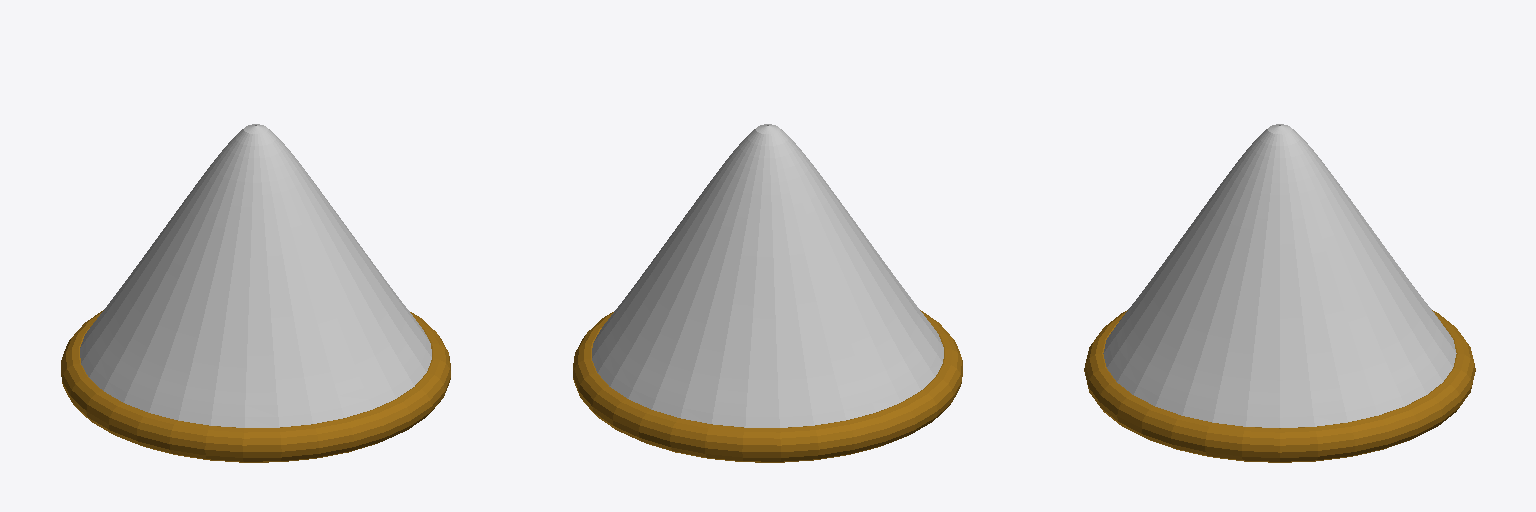
File: wizardhat.obj
3 views of the same model, side by side, from view 1: azimuth 30°, elevation 25°; view 2: azimuth 150°, elevation 25°; view 3: azimuth 270°, elevation 25° (orthographic).
Visible parts, largest first — view 1: Lathe, Torus; view 2: Lathe, Torus; view 3: Lathe, Torus.
Part boxes in pixels (left/top/right/bottom): Lathe: left=80, top=124, right=431, bottom=427; Torus: left=61, top=310, right=450, bottom=462; Lathe: left=592, top=124, right=943, bottom=427; Torus: left=573, top=310, right=962, bottom=462; Lathe: left=1103, top=124, right=1456, bottom=427; Torus: left=1084, top=310, right=1475, bottom=462.
Size of the model in its own units: 429 by 314 by 429.